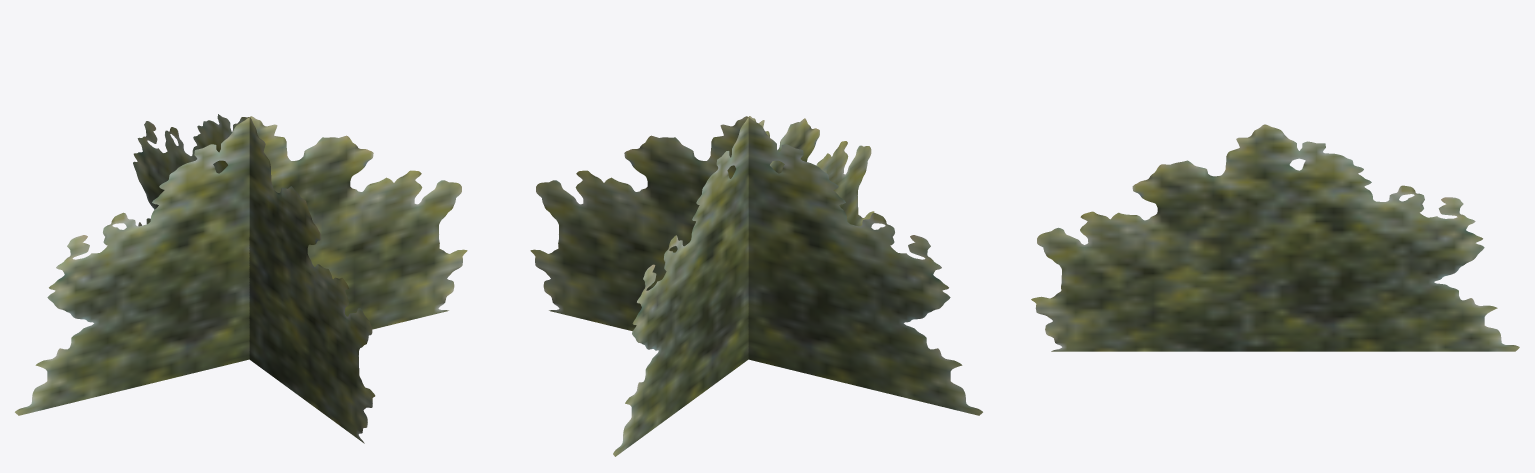
File: bush1.fbx
3 views of the same model, side by side, from view 1: azimuth 30°, elevation 25°; view 2: azimuth 150°, elevation 25°; view 3: azimuth 270°, elevation 25° (orthographic). The views are drawn at different scales.
Parts seen in each view (by area): view 1: pPlane5; view 2: pPlane5; view 3: pPlane5.
Part boxes in pixels (box(x1,y1,x2,y2)): pPlane5: box(15, 114, 467, 443); pPlane5: box(530, 116, 982, 456); pPlane5: box(1031, 124, 1519, 351).
Bounding box in the file's own units: 1.5 × 0.75 × 1.5.
